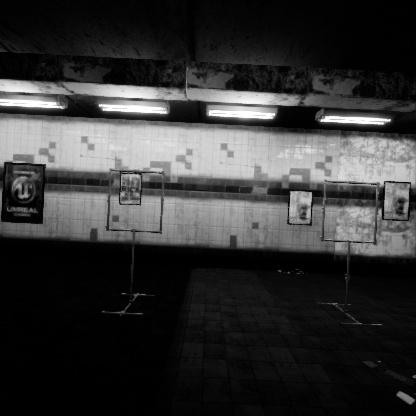gate: (106, 181, 170, 247), (322, 171, 384, 236)
